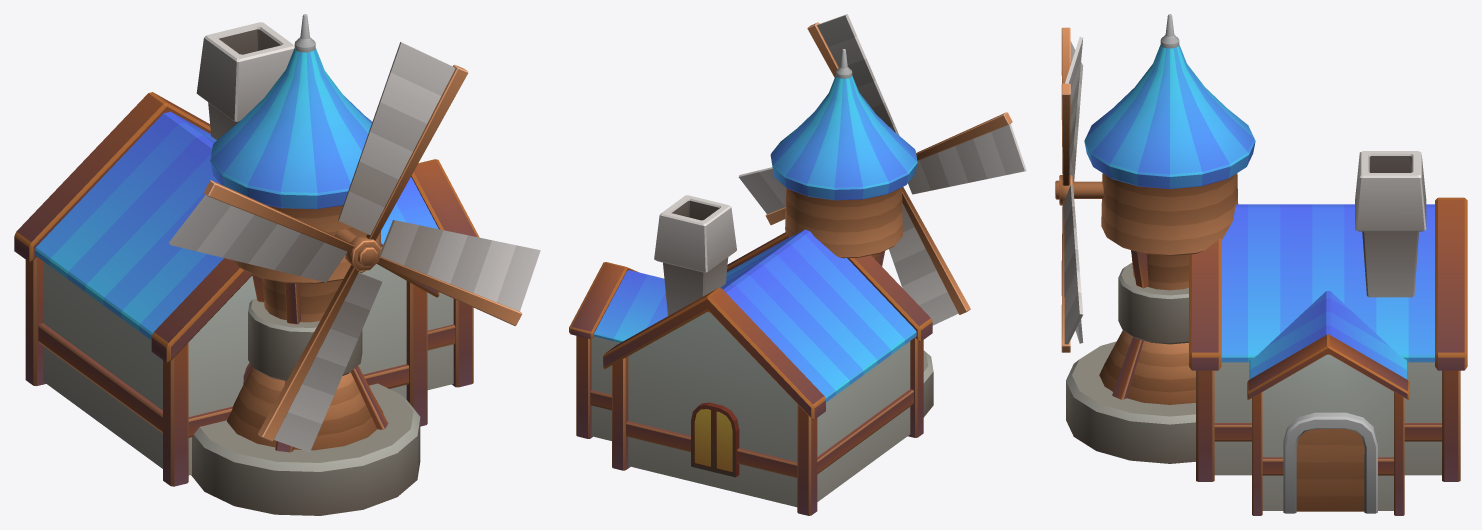
Rendered from Windmill_House.fbx.
3 views of the same model, side by side, from view 1: azimuth 30°, elevation 25°; view 2: azimuth 150°, elevation 25°; view 3: azimuth 270°, elevation 25° (orthographic). The views are drawn at different scales.
Parts seen in each view (by area): view 1: farmHouse.002, fan.001; view 2: farmHouse.002, fan.001; view 3: farmHouse.002, fan.001.
Part boxes in pixels (x1,y1,x2,y2): farmHouse.002: (14,14,479,515); fan.001: (169,42,540,452); farmHouse.002: (569,49,933,515); fan.001: (738,14,1026,325); farmHouse.002: (1066,14,1467,515); fan.001: (1055,27,1103,352).
Size of the model in its own units: 121 by 129 by 119.
Materials: 1 (1 with a texture image).
